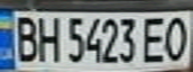2: (100, 15, 121, 64)
3: (118, 15, 142, 64)
4: (81, 15, 103, 64)
5: (63, 14, 84, 63)
B: (9, 12, 42, 63)
E: (139, 12, 172, 63)
H: (33, 12, 63, 63)
O: (160, 12, 193, 63)
